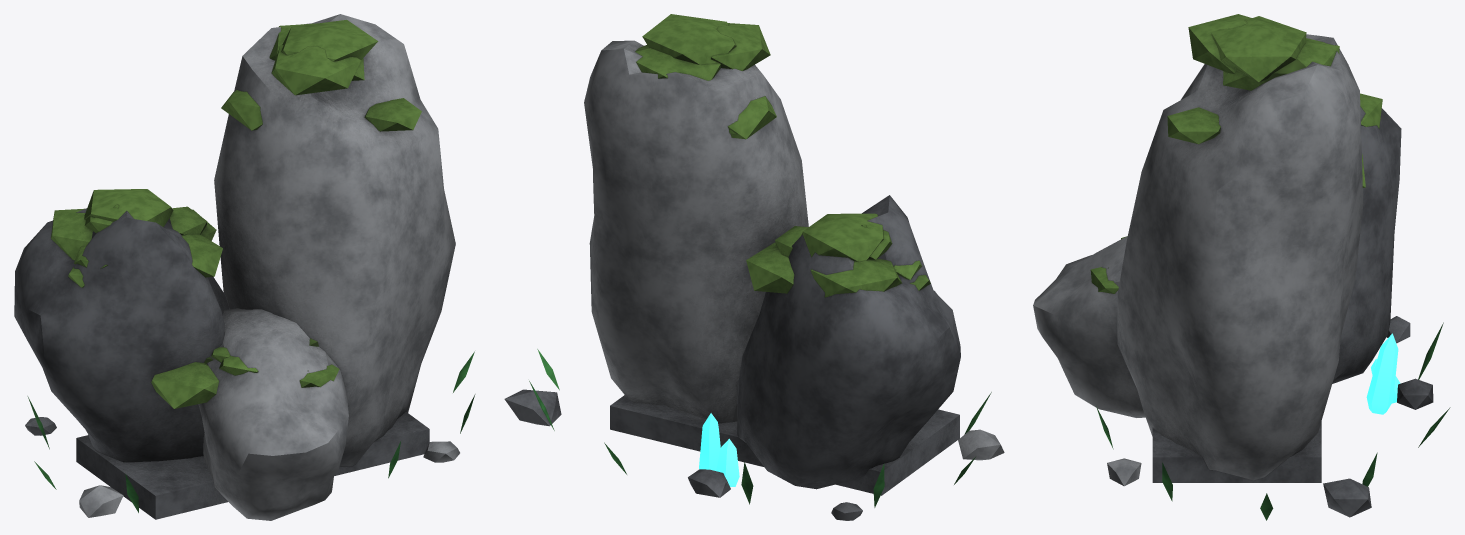
Rendered from roca_formacion.fbx.
3 views of the same model, side by side, from view 1: azimuth 30°, elevation 25°; view 2: azimuth 150°, elevation 25°; view 3: azimuth 270°, elevation 25° (orthographic). The views are drawn at different scales.
Parts seen in each view (by area): view 1: roca_formacion; view 2: roca_formacion, roca_formacion_neon; view 3: roca_formacion, roca_formacion_neon.
Boxes of the visible parts, left/top/right/bottom form: roca_formacion: left=14, top=14, right=475, bottom=520; roca_formacion: left=504, top=14, right=1004, bottom=520; roca_formacion_neon: left=699, top=413, right=739, bottom=486; roca_formacion: left=1033, top=14, right=1450, bottom=520; roca_formacion_neon: left=1366, top=333, right=1400, bottom=414.
Size of the model in its own units: 5.81 by 5.02 by 4.45.
Materials: 2 (2 with a texture image).
